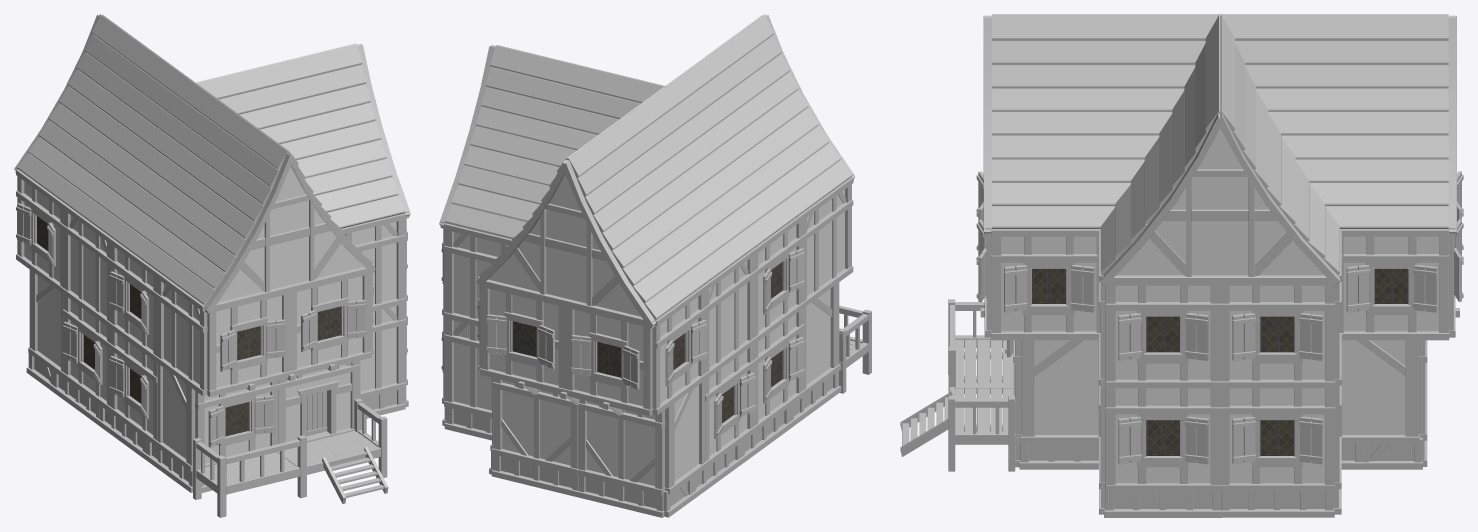
Rendered from City_House_1A3.fbx.
3 views of the same model, side by side, from view 1: azimuth 30°, elevation 25°; view 2: azimuth 150°, elevation 25°; view 3: azimuth 270°, elevation 25° (orthographic). The views are drawn at different scales.
Parts seen in each view (by area): view 1: City_House_1A3, Door.006; view 2: City_House_1A3; view 3: City_House_1A3.
Part boxes in pixels (x1,y1,x2,y2): City_House_1A3: (14,14,410,517); Door.006: (307,390,327,435); City_House_1A3: (439,14,871,517); City_House_1A3: (900,14,1463,517).
Size of the model in its own units: 1306 by 1578 by 1974.
